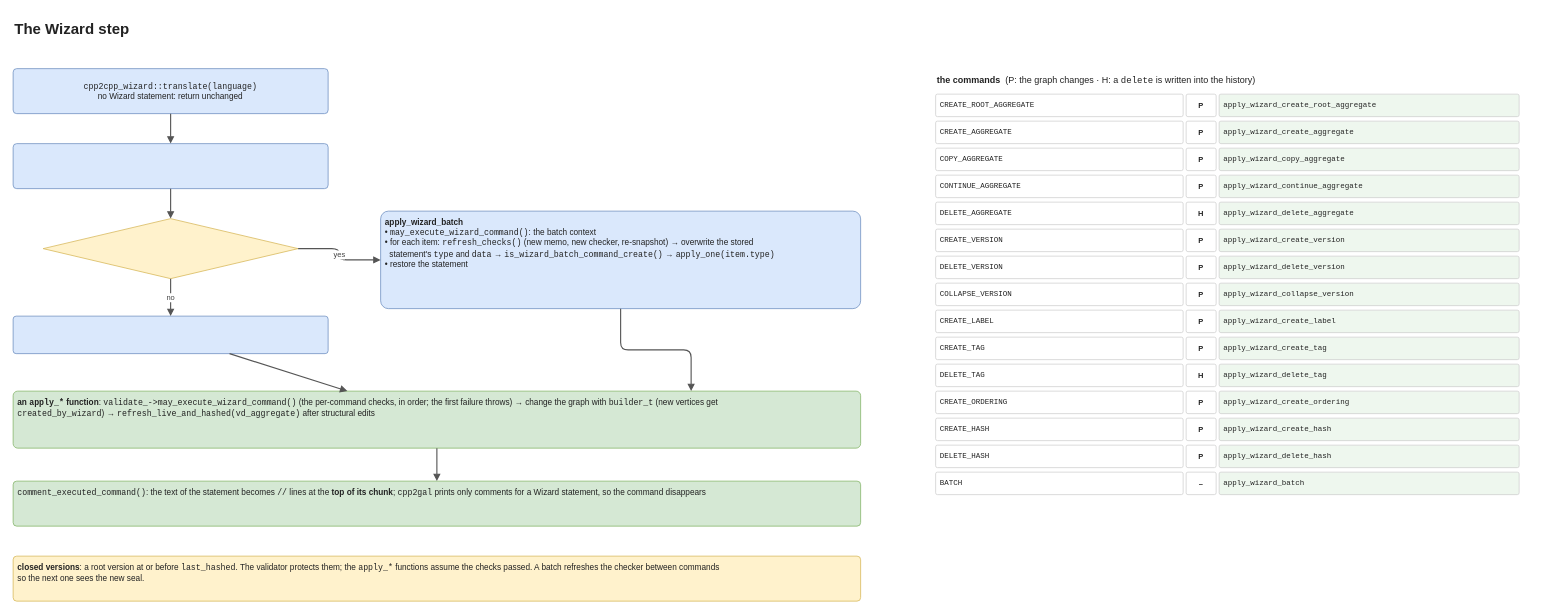
The diagram is 1549 pixels wide and 614 high, and some of its shapes have lost their labels. Each missing label, with the centre of its shape:
apply_one(type) : a switch over command_et: the point at 170,334
batch?: the point at 170,248
validate_->is_wizard_command_single() one statement in the whole graph: the point at 170,166
